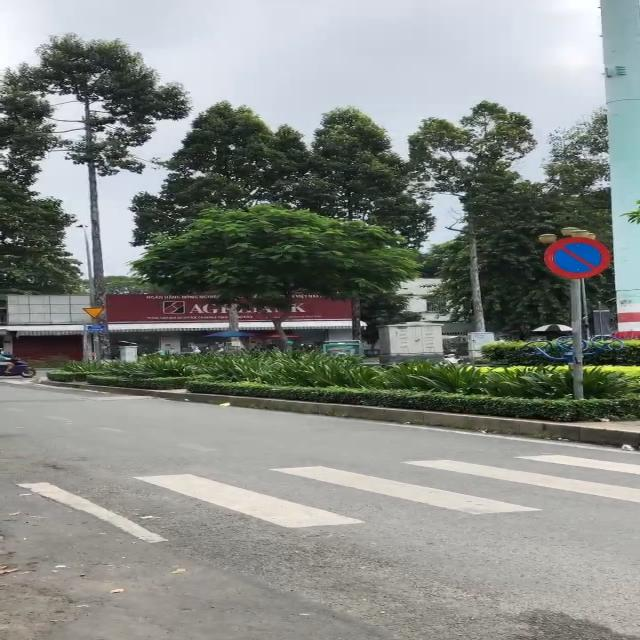Bien bao cam do xe: (541, 235, 619, 279)
Bien bao giao nhau voi duong uu tien: (81, 307, 105, 319)
